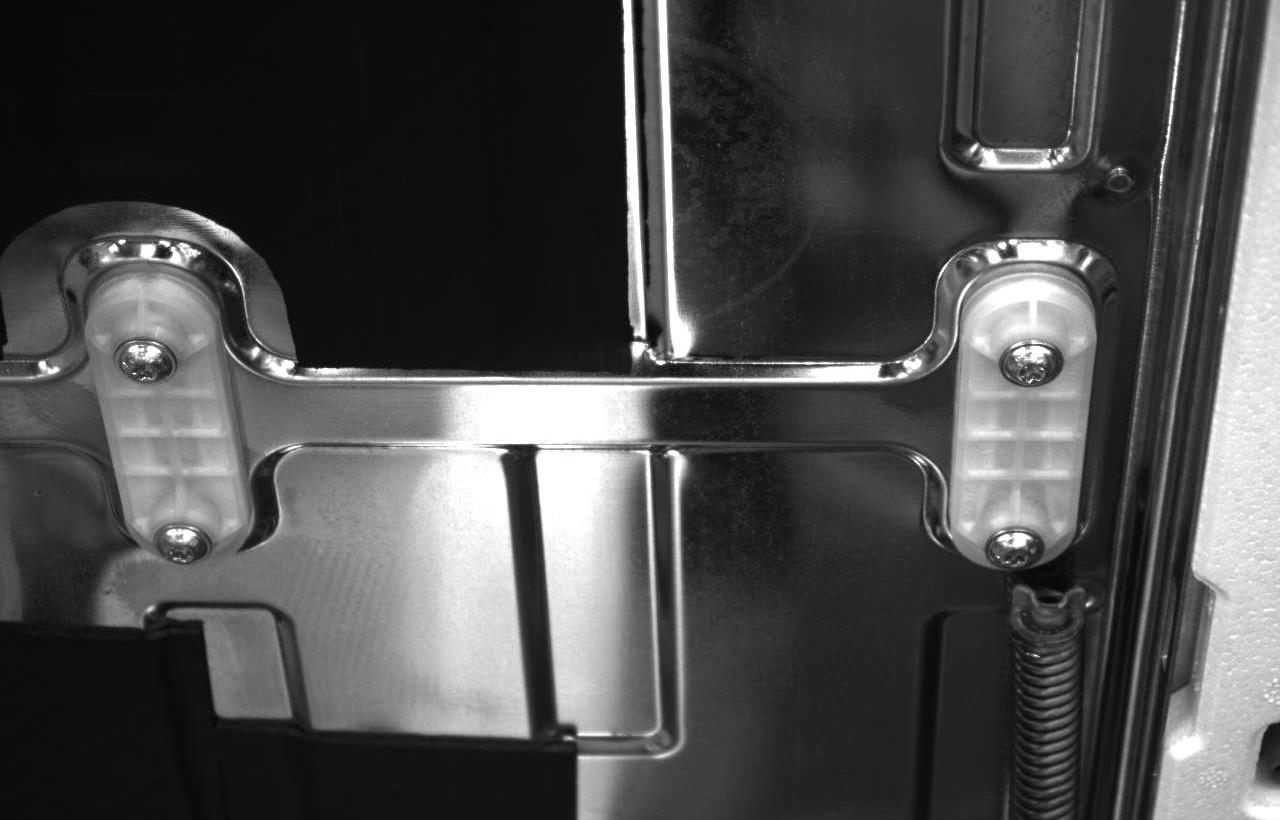vida-ok: (111, 325, 183, 392), (1000, 331, 1067, 398), (153, 511, 219, 569), (983, 517, 1049, 575)
